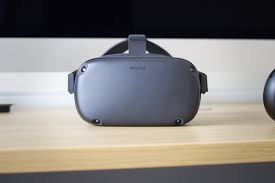oculus: (67, 49, 212, 130)
